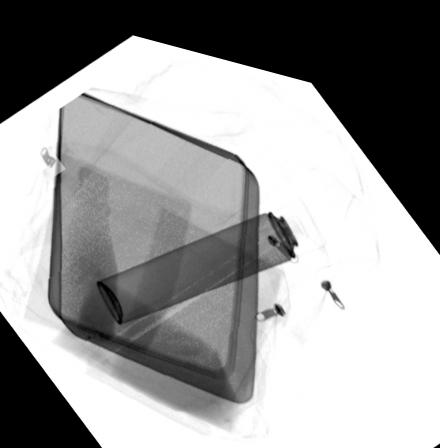Sprayer: (96, 181, 323, 318)
